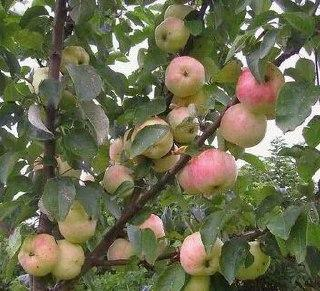Apple: (236, 61, 286, 116), (220, 102, 268, 148), (194, 149, 237, 196), (180, 232, 224, 274), (16, 232, 56, 276), (165, 57, 204, 97), (59, 202, 97, 242), (156, 18, 190, 52), (58, 241, 84, 281)
